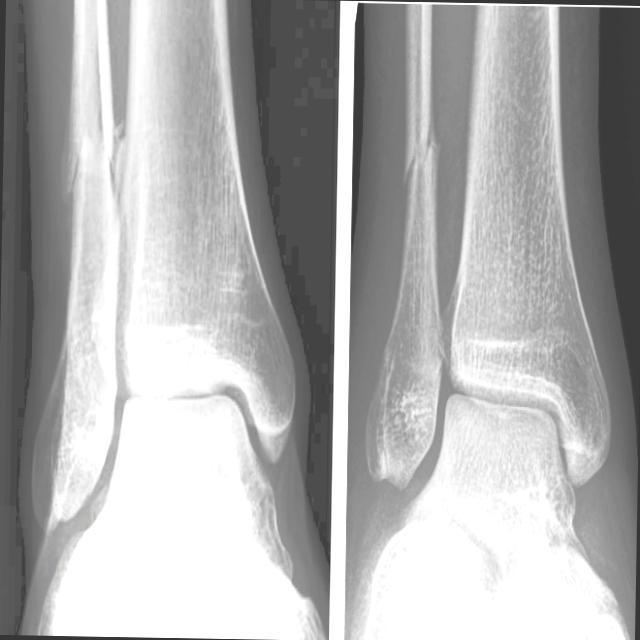HairLine Fracture: (61, 126, 114, 183), (400, 124, 440, 184)
